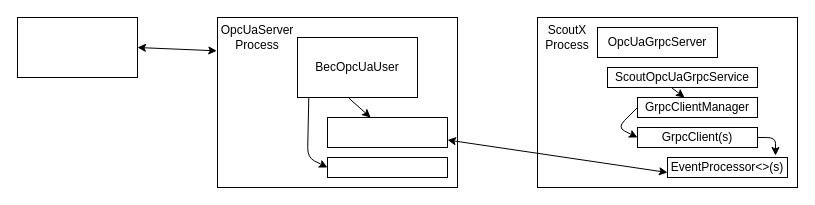
Some shapes in this 815 by 205 pixel diagram are drawn without their labels. Here are the shapes that lost their labels. From the top down, the centre of each, then its label:
At pixel 77 47: "OPC/UA Client".
At pixel 387 132: "Dictionary of IRegisteredEvents".
At pixel 387 167: "GrpcClient".
